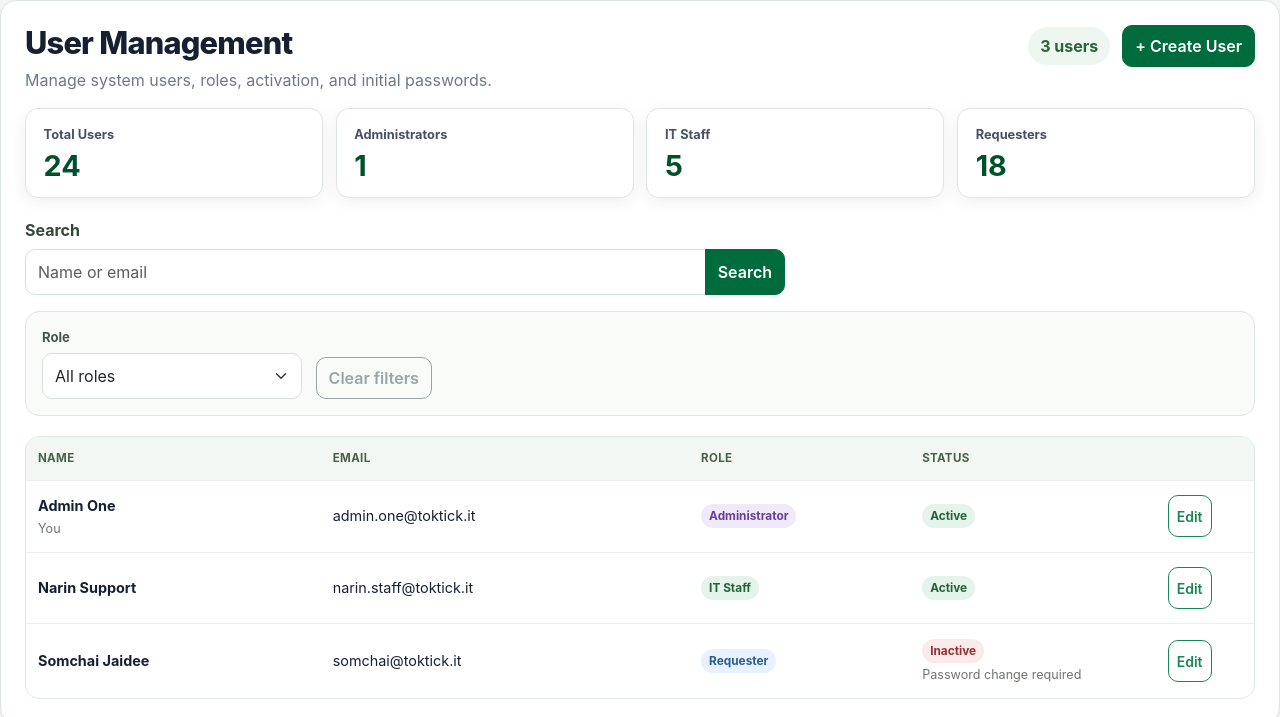
Test: Lab 3 Administrator User Management › UI-ADM-06: Set Initial Password validates confirmation and submits a separate password flow
The width and height of the screenshot is (1280, 717).
Click the button "Edit" in the row of "Narin Support".
click(1190, 588)  # box [1168,567,1212,609]
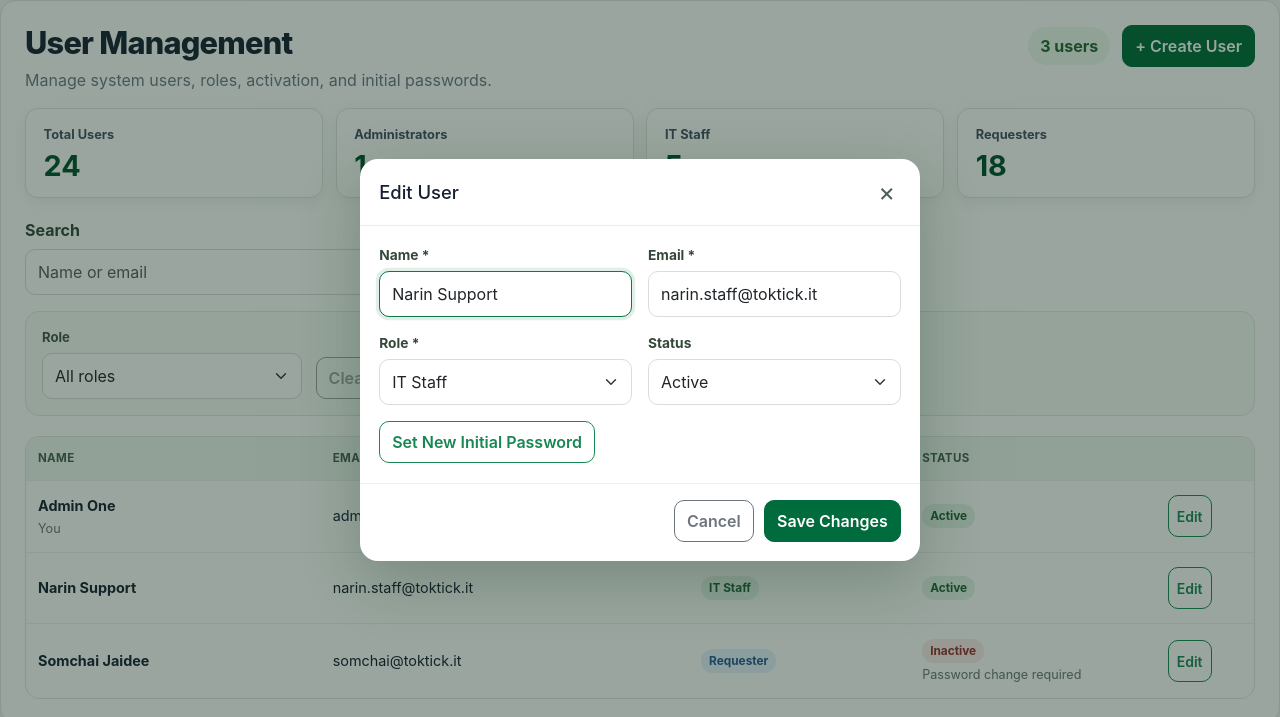
Click the button "Set New Initial Password".
click(487, 442)  # box [379,421,595,463]
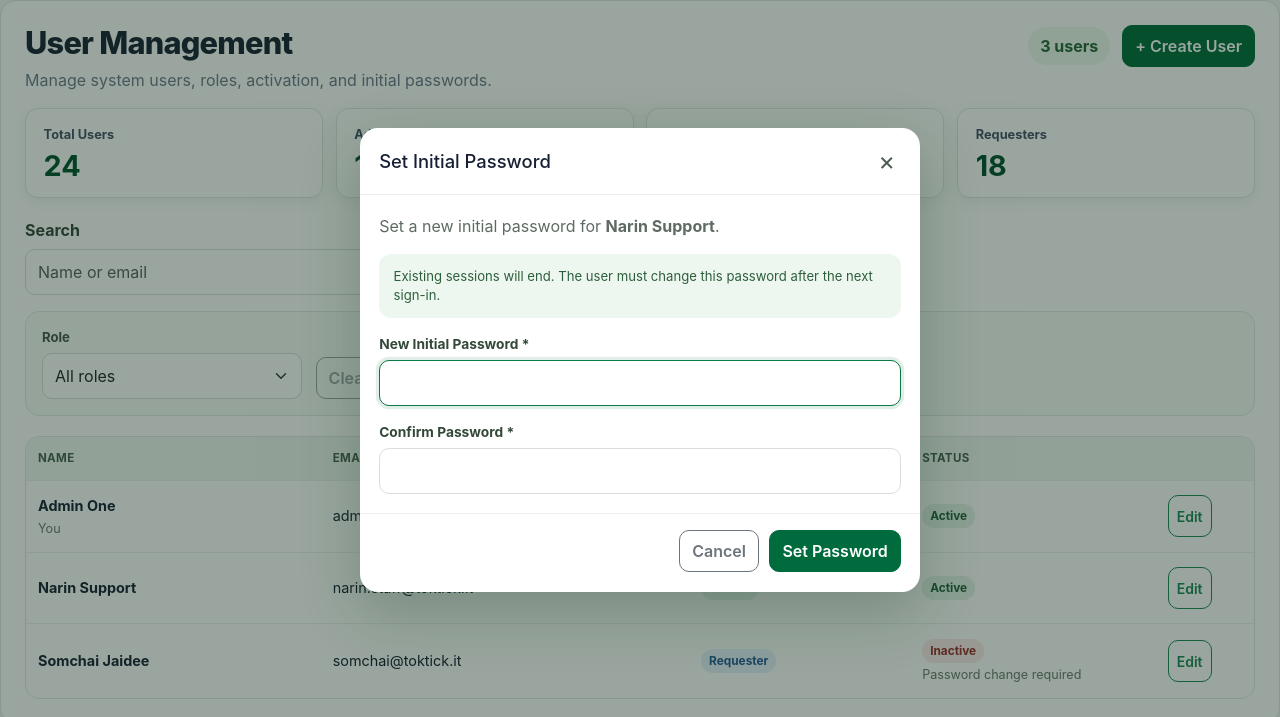
Type "NewInitial123" into the password field labelled "New Initial Password *".
click(640, 383); type("NewInitial123")  # box [379,360,901,406]
Type "Different123" into the password field labelled "Confirm Password *".
click(640, 471); type("Different123")  # box [379,448,901,494]
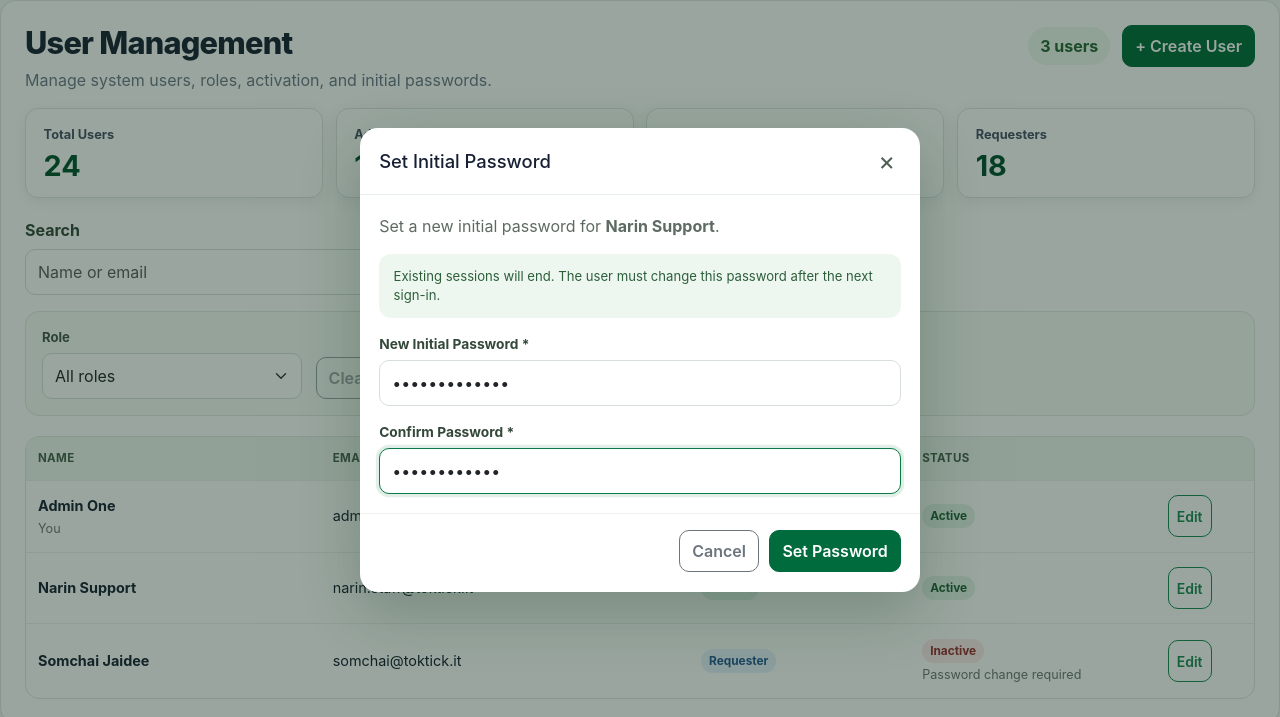
Click the button "Set Password".
click(835, 551)  # box [769,530,901,572]
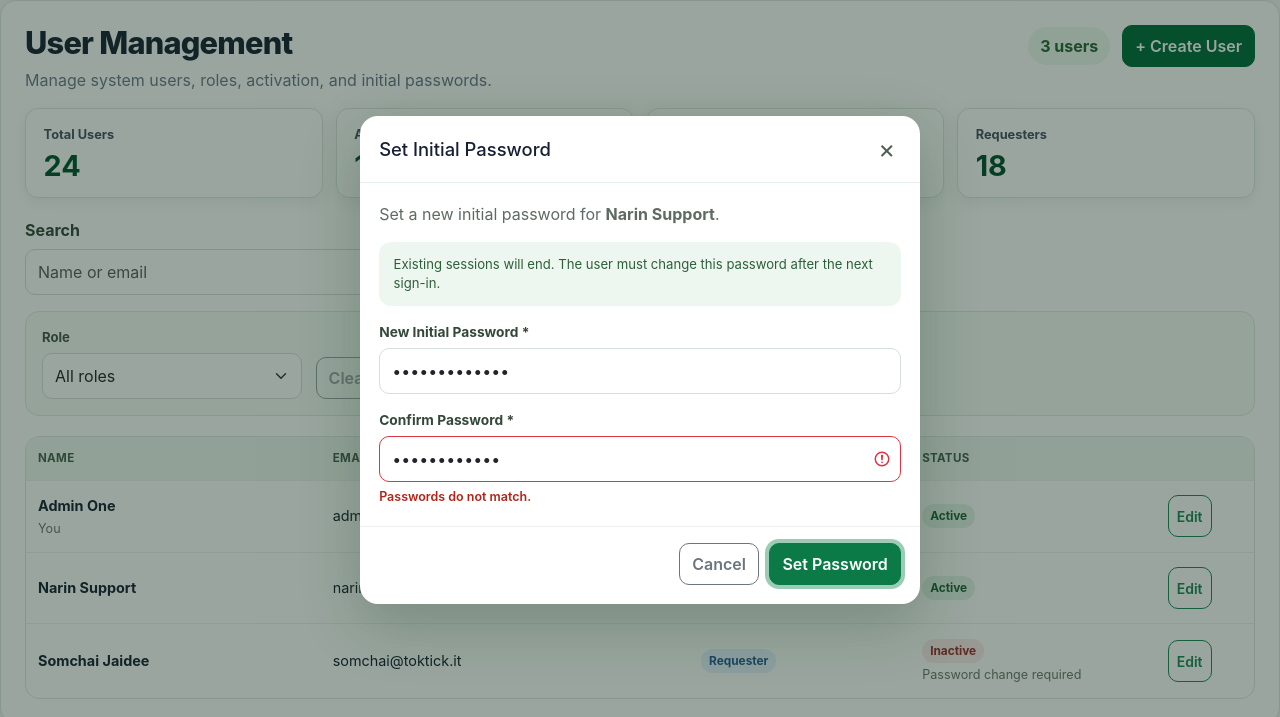
Expected: the text "Passwords do not match." is shown, [379,489,531,504]
Type "NewInitial123" into the password field labelled "Confirm Password * Passwords do not match.".
click(640, 459); type("NewInitial123")  # box [379,436,901,482]
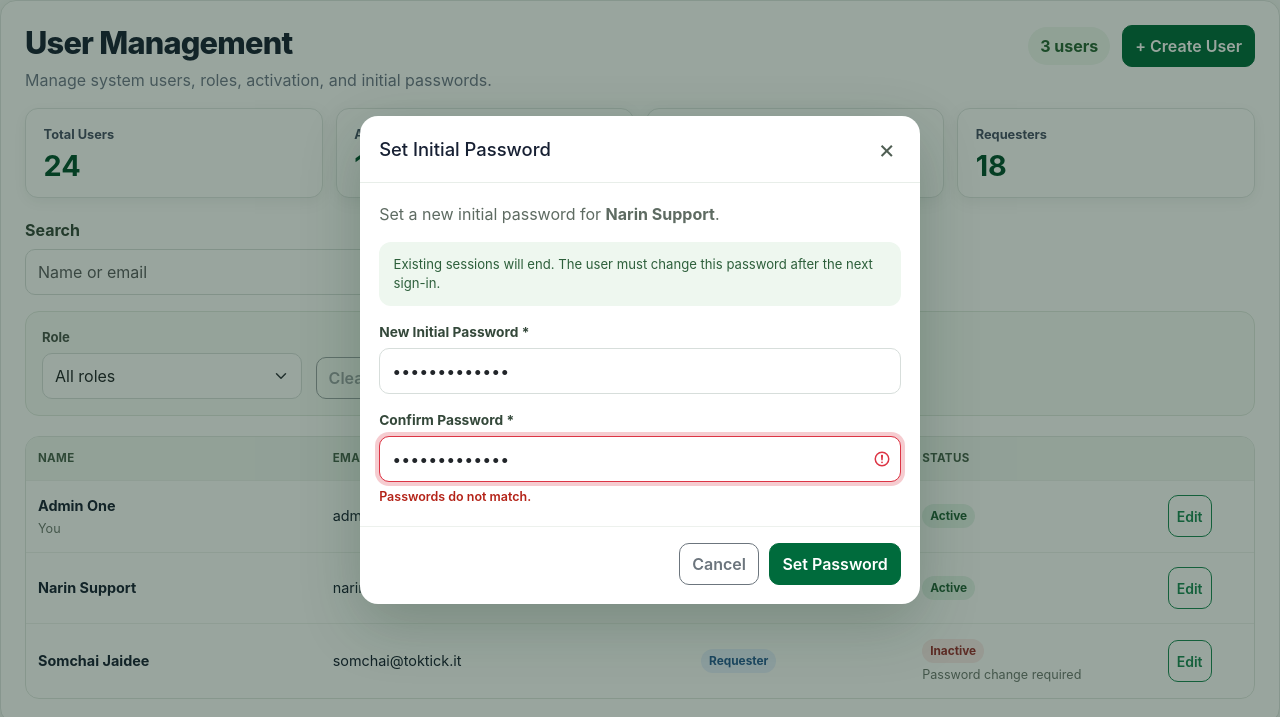
Click the button "Set Password".
click(835, 564)  # box [769,543,901,585]
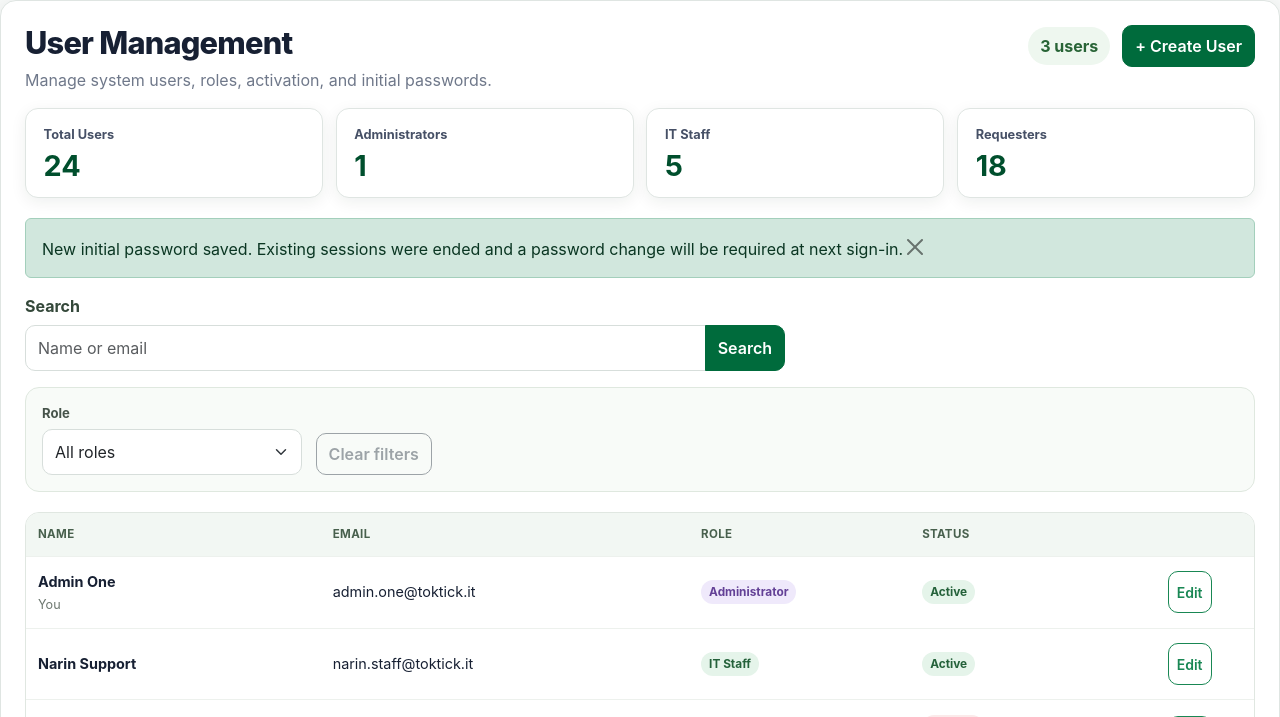
Expected: the message shows "password change will be required", [42,239,903,259]
